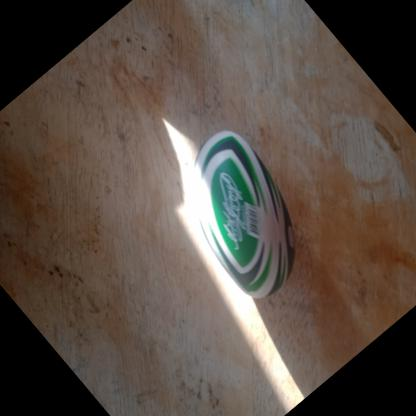Rugby: (148, 112, 336, 310)
